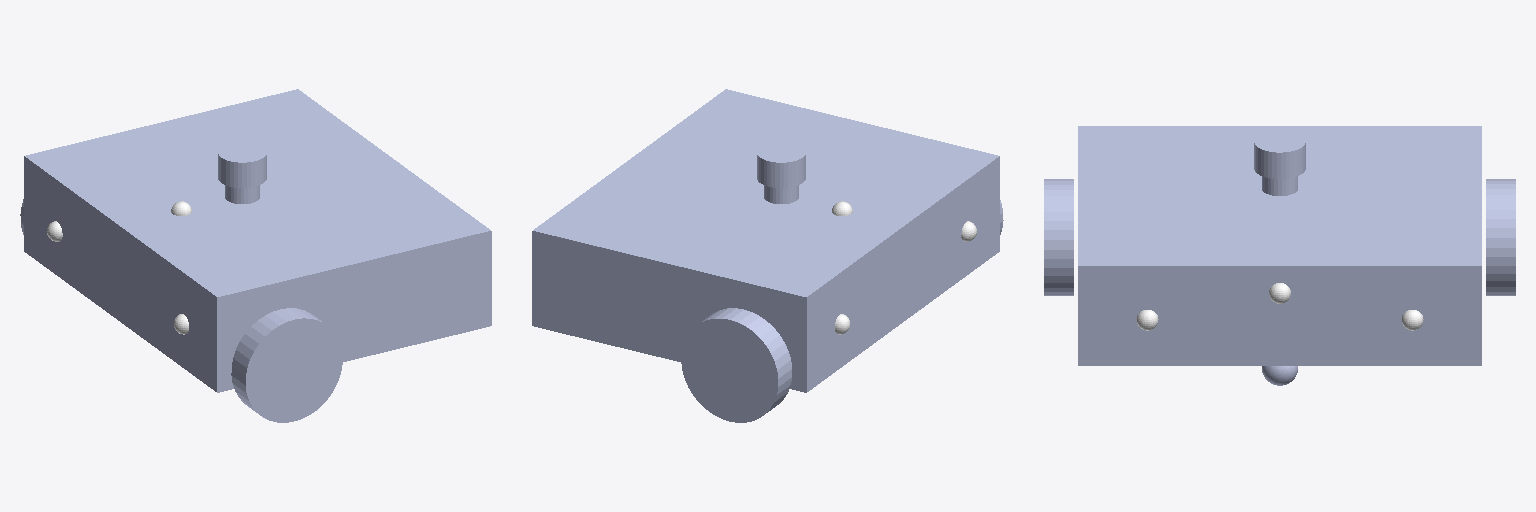
URDF robot description (amr):
<?xml version="1.0" encoding="utf-8"?>
<!-- This URDF was automatically created by SolidWorks to URDF Exporter! Originally created by Stephen Brawner (brawner@gmail.com) 
     Commit Version: 1.6.0-4-g7f85cfe  Build Version: 1.6.7995.38578
     For more information, please see http://wiki.ros.org/sw_urdf_exporter -->
<robot
  name="amr">
  <!-- Ground frame: on the floor under the rear-axle midpoint, X forward, Y left, Z up.
       base_ground_joint turns the SolidWorks frame (Y up, origin away from the robot)
       upright so the wheels and caster rest on the ground at z = 0. -->
  <link
    name="base_ground">
    <inertial>
      <origin
        xyz="0 0 0"
        rpy="0 0 0" />
      <mass
        value="0.001" />
      <inertia
        ixx="1e-06"
        ixy="0"
        ixz="0"
        iyy="1e-06"
        iyz="0"
        izz="1e-06" />
    </inertial>
  </link>
  <joint
    name="base_ground_joint"
    type="fixed">
    <origin
      xyz="-0.806871 -1.088833 1.254938"
      rpy="1.5707963267949 0 1.5707963267949" />
    <parent
      link="base_ground" />
    <child
      link="base_link" />
  </joint>
  <link
    name="base_link">
    <inertial>
      <origin
        xyz="1.08883286834938 -1.12993824154731 0.931870926130178"
        rpy="0 0 0" />
      <mass
        value="8.0" />
      <inertia
        ixx="0.14999999999999977"
        ixy="2.9291321830949495e-18"
        ixz="-1.121437398611271e-17"
        iyy="0.3366666666666666"
        iyz="-9.234456546097713e-18"
        izz="0.21666666666666665" />
    </inertial>
    <visual>
      <origin
        xyz="0 0 0"
        rpy="0 0 0" />
      <geometry>
        <mesh
          filename="package://amr/meshes/base_link.STL" />
      </geometry>
      <material
        name="">
        <color
          rgba="0.792156862745098 0.819607843137255 0.933333333333333 1" />
      </material>
    </visual>
    <collision>
      <origin
        xyz="0 0 0"
        rpy="0 0 0" />
      <geometry>
        <mesh
          filename="package://amr/meshes/base_link.STL" />
      </geometry>
    </collision>
  </link>
  <link
    name="camera_link">
    <inertial>
      <origin
        xyz="-0.229996676343874 0 0.0363940295832026"
        rpy="0 0 0" />
      <mass
        value="0.07" />
      <inertia
        ixx="0.0020811303042214237"
        ixy="2.863652168798728e-19"
        ixz="1.2590962231678605e-05"
        iyy="0.0013176713138560129"
        iyz="9.960529282778195e-20"
        izz="0.003115533009589461" />
    </inertial>
    <visual>
      <origin
        xyz="0 0 0"
        rpy="0 0 0" />
      <geometry>
        <sphere
          radius="0.015" />
      </geometry>
      <material
        name="">
        <color
          rgba="1 1 1 1" />
      </material>
    </visual>
    <collision>
      <origin
        xyz="0 0 0"
        rpy="0 0 0" />
      <geometry>
        <sphere
          radius="0.015" />
      </geometry>
    </collision>
  </link>
  <joint
    name="camera_link"
    type="fixed">
    <origin
      xyz="1.08883286834938 -1.09493824154731 1.15687092613018"
      rpy="1.5707963267949 -1.5707963267949 0" />
    <parent
      link="base_link" />
    <child
      link="camera_link" />
    <axis
      xyz="0 0 0" />
  </joint>
  <link
    name="imu_link">
    <inertial>
      <origin
        xyz="0.120003323656126 0 0.0763940295832024"
        rpy="0 0 0" />
      <mass
        value="0.005" />
      <inertia
        ixx="0.00014865216458724456"
        ixy="2.0454658348562343e-20"
        ixz="8.993544451199003e-07"
        iyy="9.411937956114378e-05"
        iyz="7.114663773412996e-21"
        izz="0.0002225380721135329" />
    </inertial>
    <visual>
      <origin
        xyz="0 0 0"
        rpy="0 0 0" />
      <geometry>
        <sphere
          radius="0.015" />
      </geometry>
      <material
        name="">
        <color
          rgba="1 1 1 1" />
      </material>
    </visual>
    <collision>
      <origin
        xyz="0 0 0"
        rpy="0 0 0" />
      <geometry>
        <sphere
          radius="0.015" />
      </geometry>
    </collision>
  </link>
  <joint
    name="imu_link"
    type="fixed">
    <origin
      xyz="1.08883286834938 -1.05493824154731 0.806870926130179"
      rpy="1.5707963267949 -1.5707963267949 0" />
    <parent
      link="base_link" />
    <child
      link="imu_link" />
    <axis
      xyz="0 0 0" />
  </joint>
  <link
    name="us_front_left_link">
    <inertial>
      <origin
        xyz="-0.229996676343874 0.18 -0.00360597041679744"
        rpy="0 0 0" />
      <mass
        value="0.01" />
      <inertia
        ixx="0.0002973043291744891"
        ixy="4.0909316697124686e-20"
        ixz="1.7987088902398006e-06"
        iyy="0.00018823875912228757"
        iyz="1.4229327546825993e-20"
        izz="0.0004450761442270658" />
    </inertial>
    <visual>
      <origin
        xyz="0 0 0"
        rpy="0 0 0" />
      <geometry>
        <sphere
          radius="0.015" />
      </geometry>
      <material
        name="">
        <color
          rgba="1 1 1 1" />
      </material>
    </visual>
    <collision>
      <origin
        xyz="0 0 0"
        rpy="0 0 0" />
      <geometry>
        <sphere
          radius="0.015" />
      </geometry>
    </collision>
  </link>
  <joint
    name="us_front_left_link"
    type="fixed">
    <origin
      xyz="1.26883286834938 -1.13493824154731 1.15687092613018"
      rpy="1.5707963267949 -1.5707963267949 0" />
    <parent
      link="base_link" />
    <child
      link="us_front_left_link" />
    <axis
      xyz="0 0 0" />
  </joint>
  <link
    name="us_front_right_link">
    <inertial>
      <origin
        xyz="-0.229996676343874 -0.18 -0.00360597041679744"
        rpy="0 0 0" />
      <mass
        value="0.01" />
      <inertia
        ixx="0.0002973043291744891"
        ixy="4.0909316697124686e-20"
        ixz="1.7987088902398006e-06"
        iyy="0.00018823875912228757"
        iyz="1.4229327546825993e-20"
        izz="0.0004450761442270658" />
    </inertial>
    <visual>
      <origin
        xyz="0 0 0"
        rpy="0 0 0" />
      <geometry>
        <sphere
          radius="0.015" />
      </geometry>
      <material
        name="">
        <color
          rgba="1 1 1 1" />
      </material>
    </visual>
    <collision>
      <origin
        xyz="0 0 0"
        rpy="0 0 0" />
      <geometry>
        <sphere
          radius="0.015" />
      </geometry>
    </collision>
  </link>
  <joint
    name="us_front_right_link"
    type="fixed">
    <origin
      xyz="0.90883286834938 -1.13493824154731 1.15687092613018"
      rpy="1.5707963267949 -1.5707963267949 0" />
    <parent
      link="base_link" />
    <child
      link="us_front_right_link" />
    <axis
      xyz="0 0 0" />
  </joint>
  <link
    name="us_rear_left_link">
    <inertial>
      <origin
        xyz="0.220003323656126 0.18 -0.00360597041679744"
        rpy="0 0 0" />
      <mass
        value="0.01" />
      <inertia
        ixx="0.0002973043291744891"
        ixy="4.0909316697124686e-20"
        ixz="1.7987088902398006e-06"
        iyy="0.00018823875912228757"
        iyz="1.4229327546825993e-20"
        izz="0.0004450761442270658" />
    </inertial>
    <visual>
      <origin
        xyz="0 0 0"
        rpy="0 0 0" />
      <geometry>
        <sphere
          radius="0.015" />
      </geometry>
      <material
        name="">
        <color
          rgba="1 1 1 1" />
      </material>
    </visual>
    <collision>
      <origin
        xyz="0 0 0"
        rpy="0 0 0" />
      <geometry>
        <sphere
          radius="0.015" />
      </geometry>
    </collision>
  </link>
  <joint
    name="us_rear_left_link"
    type="fixed">
    <origin
      xyz="1.26883286834938 -1.13493824154731 0.706870926130179"
      rpy="1.5707963267949 -1.5707963267949 0" />
    <parent
      link="base_link" />
    <child
      link="us_rear_left_link" />
    <axis
      xyz="0 0 0" />
  </joint>
  <link
    name="us_rear_right_link">
    <inertial>
      <origin
        xyz="0.220003323656126 -0.18 -0.00360597041679744"
        rpy="0 0 0" />
      <mass
        value="0.01" />
      <inertia
        ixx="0.0002973043291744891"
        ixy="4.0909316697124686e-20"
        ixz="1.7987088902398006e-06"
        iyy="0.00018823875912228757"
        iyz="1.4229327546825993e-20"
        izz="0.0004450761442270658" />
    </inertial>
    <visual>
      <origin
        xyz="0 0 0"
        rpy="0 0 0" />
      <geometry>
        <sphere
          radius="0.015" />
      </geometry>
      <material
        name="">
        <color
          rgba="1 1 1 1" />
      </material>
    </visual>
    <collision>
      <origin
        xyz="0 0 0"
        rpy="0 0 0" />
      <geometry>
        <sphere
          radius="0.015" />
      </geometry>
    </collision>
  </link>
  <joint
    name="us_rear_right_link"
    type="fixed">
    <origin
      xyz="0.90883286834938 -1.13493824154731 0.706870926130179"
      rpy="1.5707963267949 -1.5707963267949 0" />
    <parent
      link="base_link" />
    <child
      link="us_rear_right_link" />
    <axis
      xyz="0 0 0" />
  </joint>
  <link
    name="lidar">
    <inertial>
      <origin
        xyz="0 0 0.0096863468634687"
        rpy="0 0 0" />
      <mass
        value="0.212842902280709" />
      <inertia
        ixx="0.000133478749948878"
        ixy="8.45359479313503E-38"
        ixz="-4.19488265134013E-37"
        iyy="0.000133478749948878"
        iyz="-2.22982640814869E-21"
        izz="0.000112694818970492" />
    </inertial>
    <visual>
      <origin
        xyz="0 0 0"
        rpy="0 0 0" />
      <geometry>
        <mesh
          filename="package://amr/meshes/lidar.STL" />
      </geometry>
      <material
        name="">
        <color
          rgba="0.792156862745098 0.819607843137255 0.933333333333333 1" />
      </material>
    </visual>
    <collision>
      <origin
        xyz="0 0 0"
        rpy="0 0 0" />
      <geometry>
        <mesh
          filename="package://amr/meshes/lidar.STL" />
      </geometry>
    </collision>
  </link>
  <joint
    name="lidar"
    type="fixed">
    <origin
      xyz="1.08883286834938 -1.00493824154731 0.906870926130179"
      rpy="1.5707963267949 -1.5707963267949 0" />
    <parent
      link="base_link" />
    <child
      link="lidar" />
    <axis
      xyz="0 0 0" />
  </joint>
  <link
    name="caster_wheel">
    <inertial>
      <origin
        xyz="-2.22044604925031E-16 0 0"
        rpy="0 0 0" />
      <mass
        value="0.0654498469497874" />
      <inertia
        ixx="1.63624617374468E-05"
        ixy="0"
        ixz="0"
        iyy="1.63624617374468E-05"
        iyz="0"
        izz="1.63624617374468E-05" />
    </inertial>
    <visual>
      <origin
        xyz="0 0 0"
        rpy="0 0 0" />
      <geometry>
        <mesh
          filename="package://amr/meshes/caster_wheel.STL" />
      </geometry>
      <material
        name="">
        <color
          rgba="0.792156862745098 0.819607843137255 0.933333333333333 1" />
      </material>
    </visual>
    <collision>
      <origin
        xyz="0 0 0"
        rpy="0 0 0" />
      <geometry>
        <mesh
          filename="package://amr/meshes/caster_wheel.STL" />
      </geometry>
    </collision>
  </link>
  <joint
    name="caster_wheel"
    type="fixed">
    <origin
      xyz="1.08883286834938 -1.22993824154731 1.10687092613018"
      rpy="1.5707963267949 -1.5707963267949 0" />
    <parent
      link="base_link" />
    <child
      link="caster_wheel" />
    <axis
      xyz="0 0 0" />
  </joint>
  <link
    name="left_wheel">
    <inertial>
      <origin
        xyz="1.11022302462516E-16 2.22044604925031E-16 2.22044604925031E-16"
        rpy="0 0 0" />
      <mass
        value="0.804247719318987" />
      <inertia
        ixx="0.00139402938015291"
        ixy="-1.86144194107549E-20"
        ixz="-1.62630325872826E-19"
        iyy="0.00257359270182076"
        iyz="-1.78809058665465E-19"
        izz="0.00139402938015291" />
    </inertial>
    <visual>
      <origin
        xyz="0 0 0"
        rpy="0 0 0" />
      <geometry>
        <mesh
          filename="package://amr/meshes/left_wheel.STL" />
      </geometry>
      <material
        name="">
        <color
          rgba="0.792156862745098 0.819607843137255 0.933333333333333 1" />
      </material>
    </visual>
    <collision>
      <origin
        xyz="0 0 0"
        rpy="0 0 0" />
      <geometry>
        <mesh
          filename="package://amr/meshes/left_wheel.STL" />
      </geometry>
    </collision>
  </link>
  <joint
    name="left_wheel"
    type="continuous">
    <origin
      xyz="1.38883286834938 -1.17493824154731 0.806870926130179"
      rpy="1.5707963267949 -1.5707963267949 0" />
    <parent
      link="base_link" />
    <child
      link="left_wheel" />
    <axis
      xyz="0 1 0" />
  </joint>
  <link
    name="right_wheel">
    <inertial>
      <origin
        xyz="-1.11022302462516E-16 1.11022302462516E-16 4.44089209850063E-16"
        rpy="0 0 0" />
      <mass
        value="0.804247719318987" />
      <inertia
        ixx="0.00139402938015291"
        ixy="1.79505336767361E-21"
        ixz="3.32036915323686E-19"
        iyy="0.00257359270182076"
        iyz="-2.35264355008268E-20"
        izz="0.00139402938015291" />
    </inertial>
    <visual>
      <origin
        xyz="0 0 0"
        rpy="0 0 0" />
      <geometry>
        <mesh
          filename="package://amr/meshes/right_wheel.STL" />
      </geometry>
      <material
        name="">
        <color
          rgba="0.792156862745098 0.819607843137255 0.933333333333333 1" />
      </material>
    </visual>
    <collision>
      <origin
        xyz="0 0 0"
        rpy="0 0 0" />
      <geometry>
        <mesh
          filename="package://amr/meshes/right_wheel.STL" />
      </geometry>
    </collision>
  </link>
  <joint
    name="right_wheel"
    type="continuous">
    <origin
      xyz="0.78883286834938 -1.17493824154731 0.806870926130178"
      rpy="1.5707963267949 -1.5707963267949 0" />
    <parent
      link="base_link" />
    <child
      link="right_wheel" />
    <axis
      xyz="0 1 0" />
  </joint>
  <link
    name="base">
    <inertial>
      <origin
        xyz="0 0.120003323656126 0.0436059704167977"
        rpy="0 0 0" />
      <mass
        value="0.01" />
      <inertia
        ixx="0.00018823875912228757"
        ixy="4.0909316697124686e-20"
        ixz="-1.4229327546825993e-20"
        iyy="0.0002973043291744891"
        iyz="-1.7987088902398006e-06"
        izz="0.0004450761442270658" />
    </inertial>
    <visual>
      <origin
        xyz="0 0 0"
        rpy="0 0 0" />
      <geometry>
        <sphere
          radius="0.015" />
      </geometry>
      <material
        name="">
        <color
          rgba="1 1 1 1" />
      </material>
    </visual>
    <collision>
      <origin
        xyz="0 0 0"
        rpy="0 0 0" />
      <geometry>
        <sphere
          radius="0.015" />
      </geometry>
    </collision>
  </link>
  <joint
    name="base"
    type="fixed">
    <origin
      xyz="1.08883286834938 -1.17493824154731 0.806870926130179"
      rpy="1.5707963267949 0 3.14159265358979" />
    <parent
      link="base_link" />
    <child
      link="base" />
    <axis
      xyz="0 0 0" />
  </joint>
</robot>

--- Render facts (derived) ---
3 views of the same robot in one strip: view 1: azimuth 30°, elevation 25°; view 2: azimuth 150°, elevation 25°; view 3: azimuth 270°, elevation 25° (orthographic).
Robot: amr — 13 links, 12 joints (2 continuous, 10 fixed); root link base_ground; default pose: every joint at zero.
Visible links, largest first — view 1: base_link, right_wheel, lidar; view 2: base_link, left_wheel, lidar; view 3: base_link, left_wheel, right_wheel, lidar, caster_wheel.
Boxes of the visible links, bbox=[...] form: base_link: bbox=[24, 89, 491, 392]; right_wheel: bbox=[231, 308, 342, 422]; lidar: bbox=[218, 142, 266, 203]; base_link: bbox=[532, 89, 999, 392]; left_wheel: bbox=[681, 308, 791, 422]; lidar: bbox=[757, 142, 805, 203]; base_link: bbox=[1078, 126, 1481, 365]; left_wheel: bbox=[1486, 179, 1515, 295]; right_wheel: bbox=[1044, 179, 1073, 295]; lidar: bbox=[1254, 131, 1305, 195]; caster_wheel: bbox=[1262, 366, 1297, 385].
Size in the robot's own frame: 0.48 by 0.64 by 0.27 metres.
Meshes: 5 distinct files referenced, 5 mesh visuals loaded (5 binary STL).
